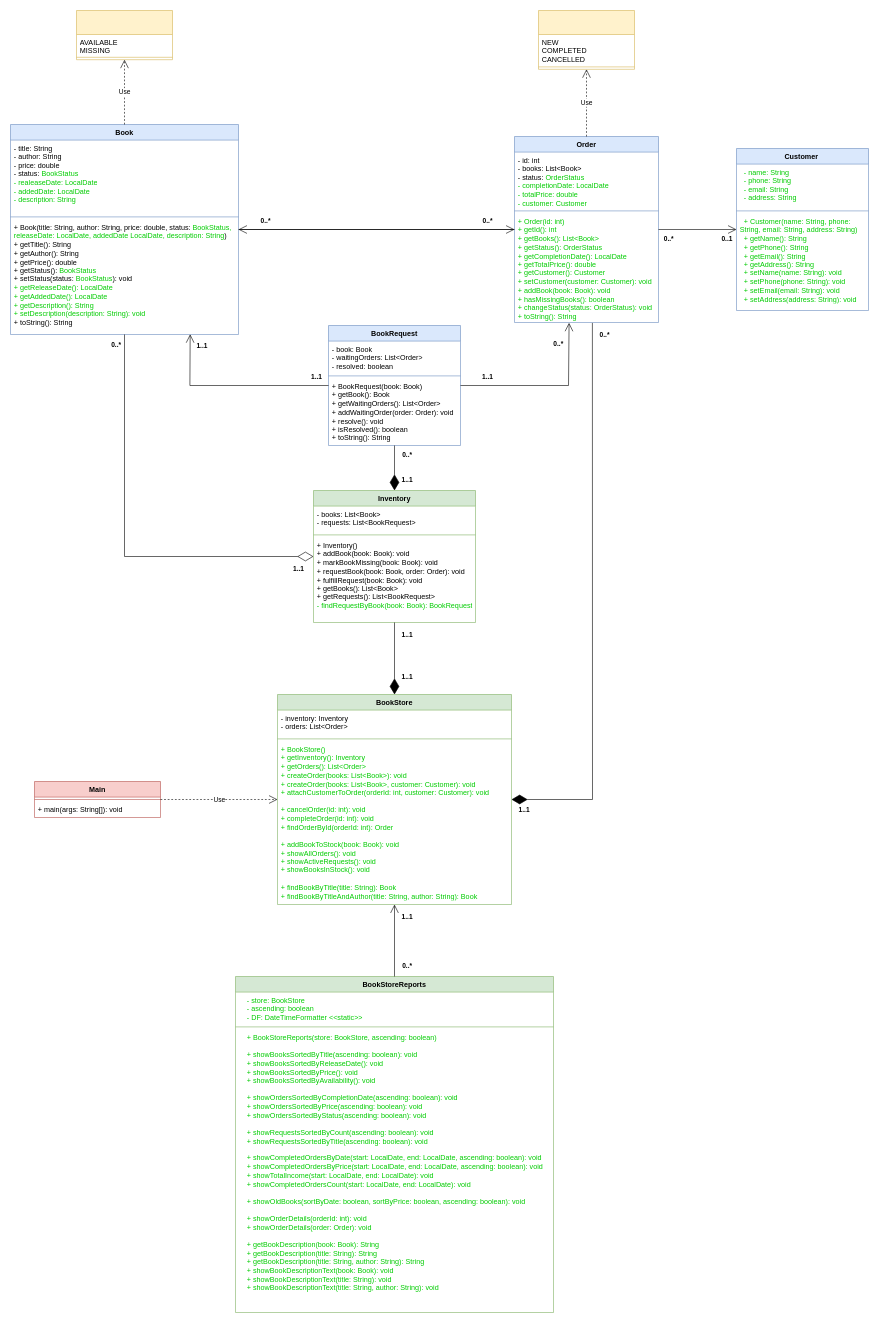
The diagram is 879 pixels wide and 1325 high, and some of its shapes have lost their labels. Each missing label, with the box of its shape:
<<enumeration>> BookStatus: (76, 10, 172, 60)
<<enumeration>> OrderStatus: (538, 10, 634, 69)
